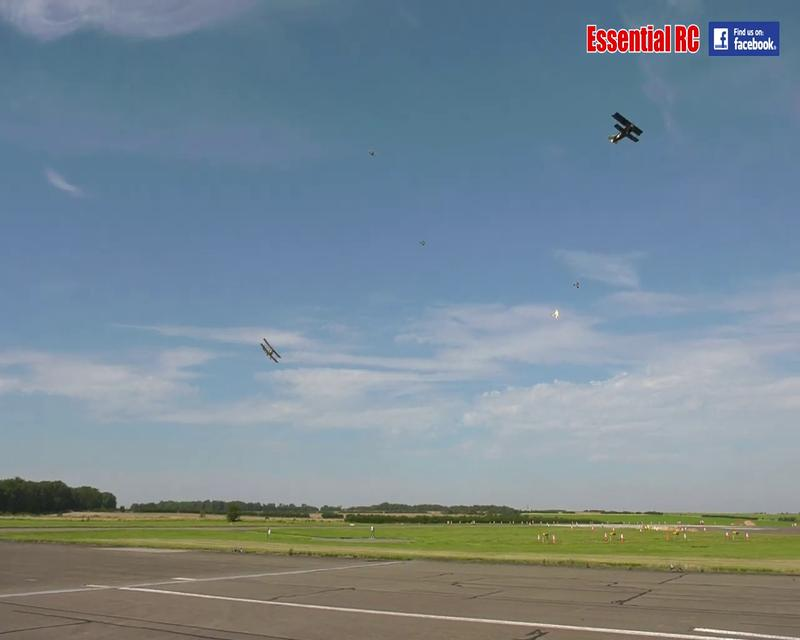UAV: (585, 22, 700, 54), (609, 111, 644, 150), (258, 336, 281, 364)
